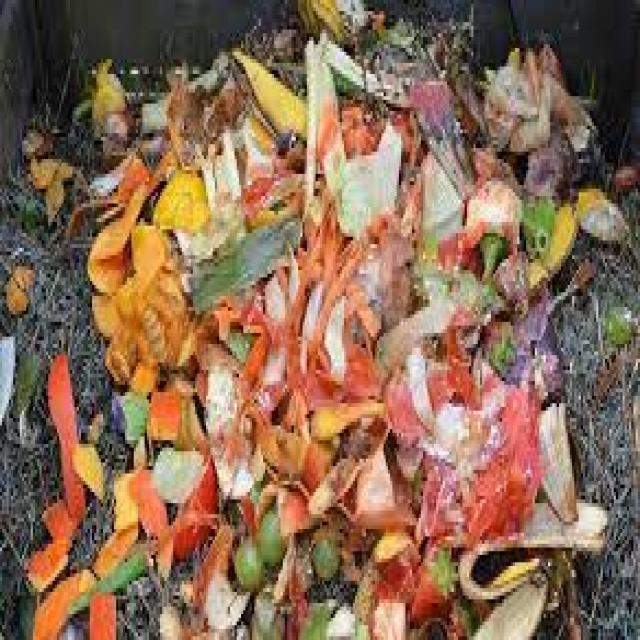Organic: (94, 45, 566, 640), (20, 540, 151, 640), (48, 352, 106, 547), (247, 1, 479, 44), (575, 166, 636, 284), (26, 120, 76, 222), (0, 260, 36, 316)
